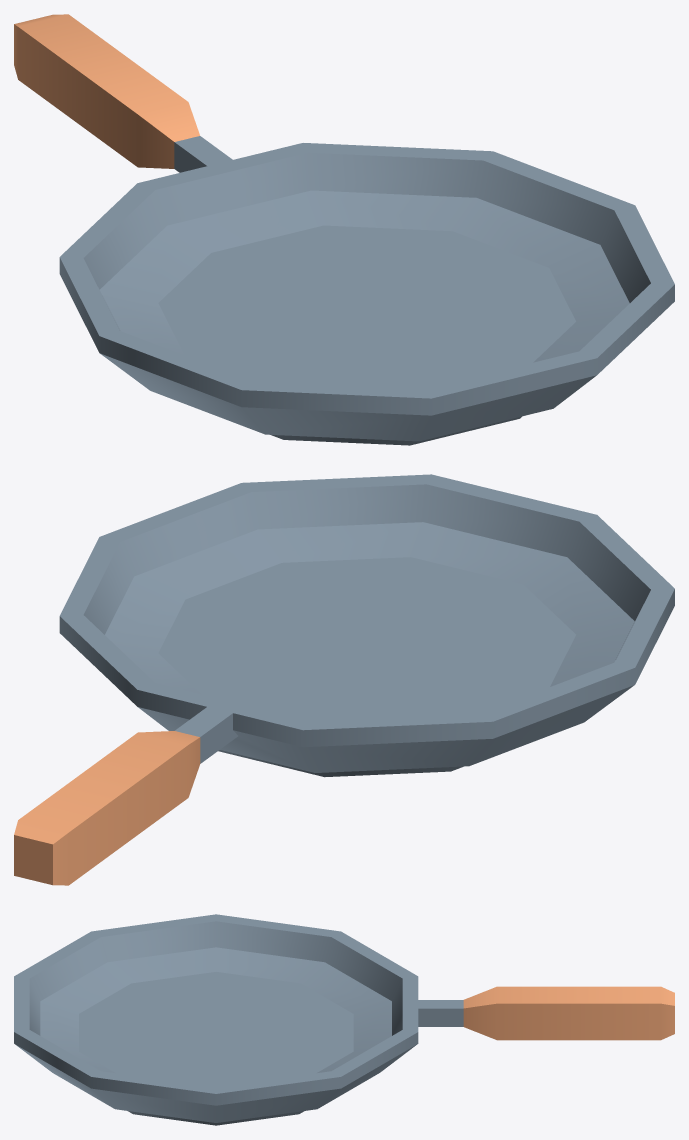
Rendered from Frying Pan.glb.
3 views of the same model, one above another, from view 1: azimuth 30°, elevation 25°; view 2: azimuth 150°, elevation 25°; view 3: azimuth 270°, elevation 25° (orthographic). The views are drawn at different scales.
Parts seen in each view (by area): view 1: fryingPan; view 2: fryingPan; view 3: fryingPan.
Boxes of the visible parts, left/top/right/bottom form: fryingPan: left=14, top=14, right=674, bottom=445; fryingPan: left=14, top=474, right=674, bottom=885; fryingPan: left=14, top=914, right=674, bottom=1125.
Bounding box in the file's own units: 0.6574 × 0.1206 × 1.02.
